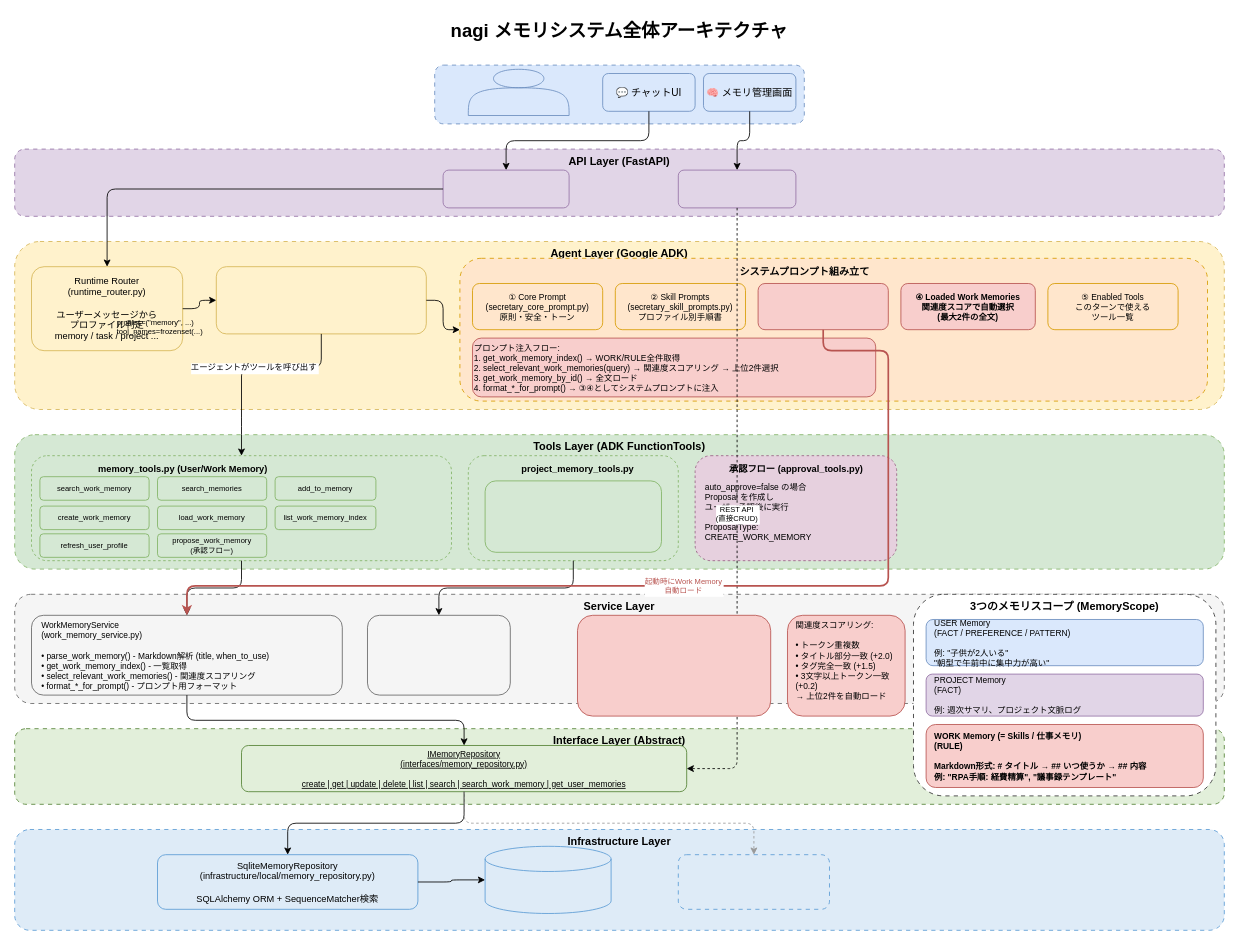
Some shapes in this 1239 by 945 pixel diagram are drawn without their labels. The centre of each missing label's shape, as x and y in pixels:
"/api/chat エージェント呼び出し" goes at pixel 505 188.
"/api/memories CRUD + Search" goes at pixel 736 188.
"create_project_summary タスク集計 + LLM要約 → ProjectMemory保存" goes at pixel 573 516.
"LLM Utils (llm_utils.py) • generate_text() - Profile要約 - Project要約" goes at pixel 438 654.
"Secretary Agent (secretary_agent.py) build_system_prompt_with_work_memory()" goes at pixel 320 300.
"Work Memory Markdown形式: # タイトル ## いつ使うか このスキルを使う状況の説明 ## 内容 詳細な手順やルール" goes at pixel 674 665.
"③ Work Memory Index ID + タイトル + 用途 (最大8件の一覧)" goes at pixel 822 306.
"（将来）GCP実装 Firestore / Vertex AI ベクトル検索" goes at pixel 753 881.
"👤 ユーザー / Frontend" goes at pixel 518 92.
"🗄️ SQLite (MemoryORM テーブル)" goes at pixel 547 879.
